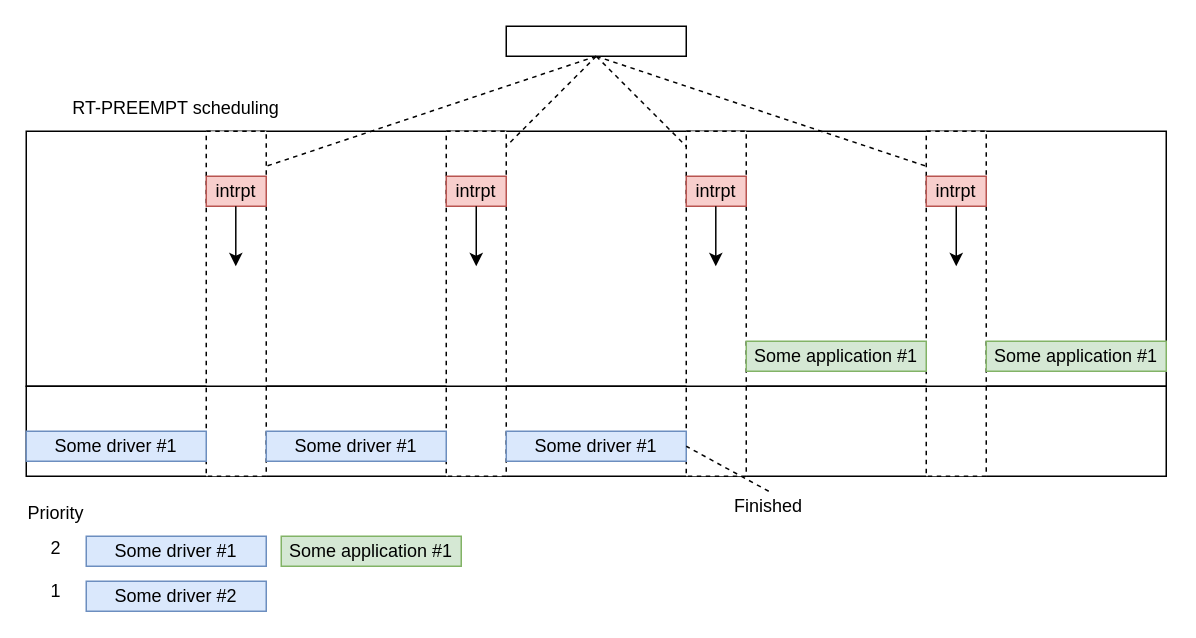
The diagram is 1196 pixels wide and 638 high, and some of its shapes have lost their labels. The box of each missing label's shape, as (x1, y1, x2, y2) in pixels:
Kernel space: (25, 385, 1166, 476)
Preemption: (505, 25, 686, 56)
User space (in kernel space): (25, 130, 1166, 386)
